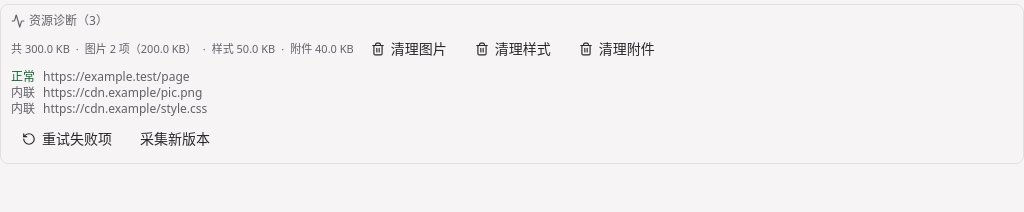
Scenario: SnapshotDiagnosticsPanel — N124 资源预算与清理 › 被清资源在诊断清单中以「缺失」如实回显
Click the button "清理图片" at point(409, 49), box [360,33,458,65]
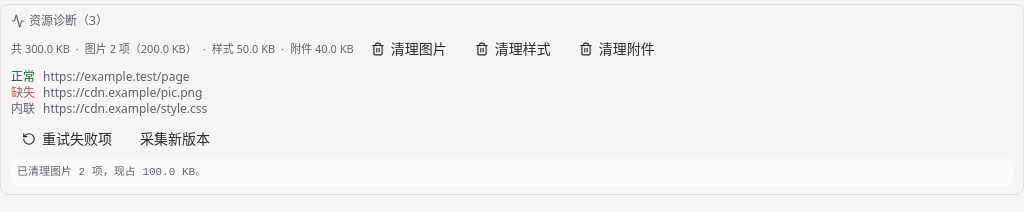
Check: the text "缺失" is shown, box [11,85,35,101]
